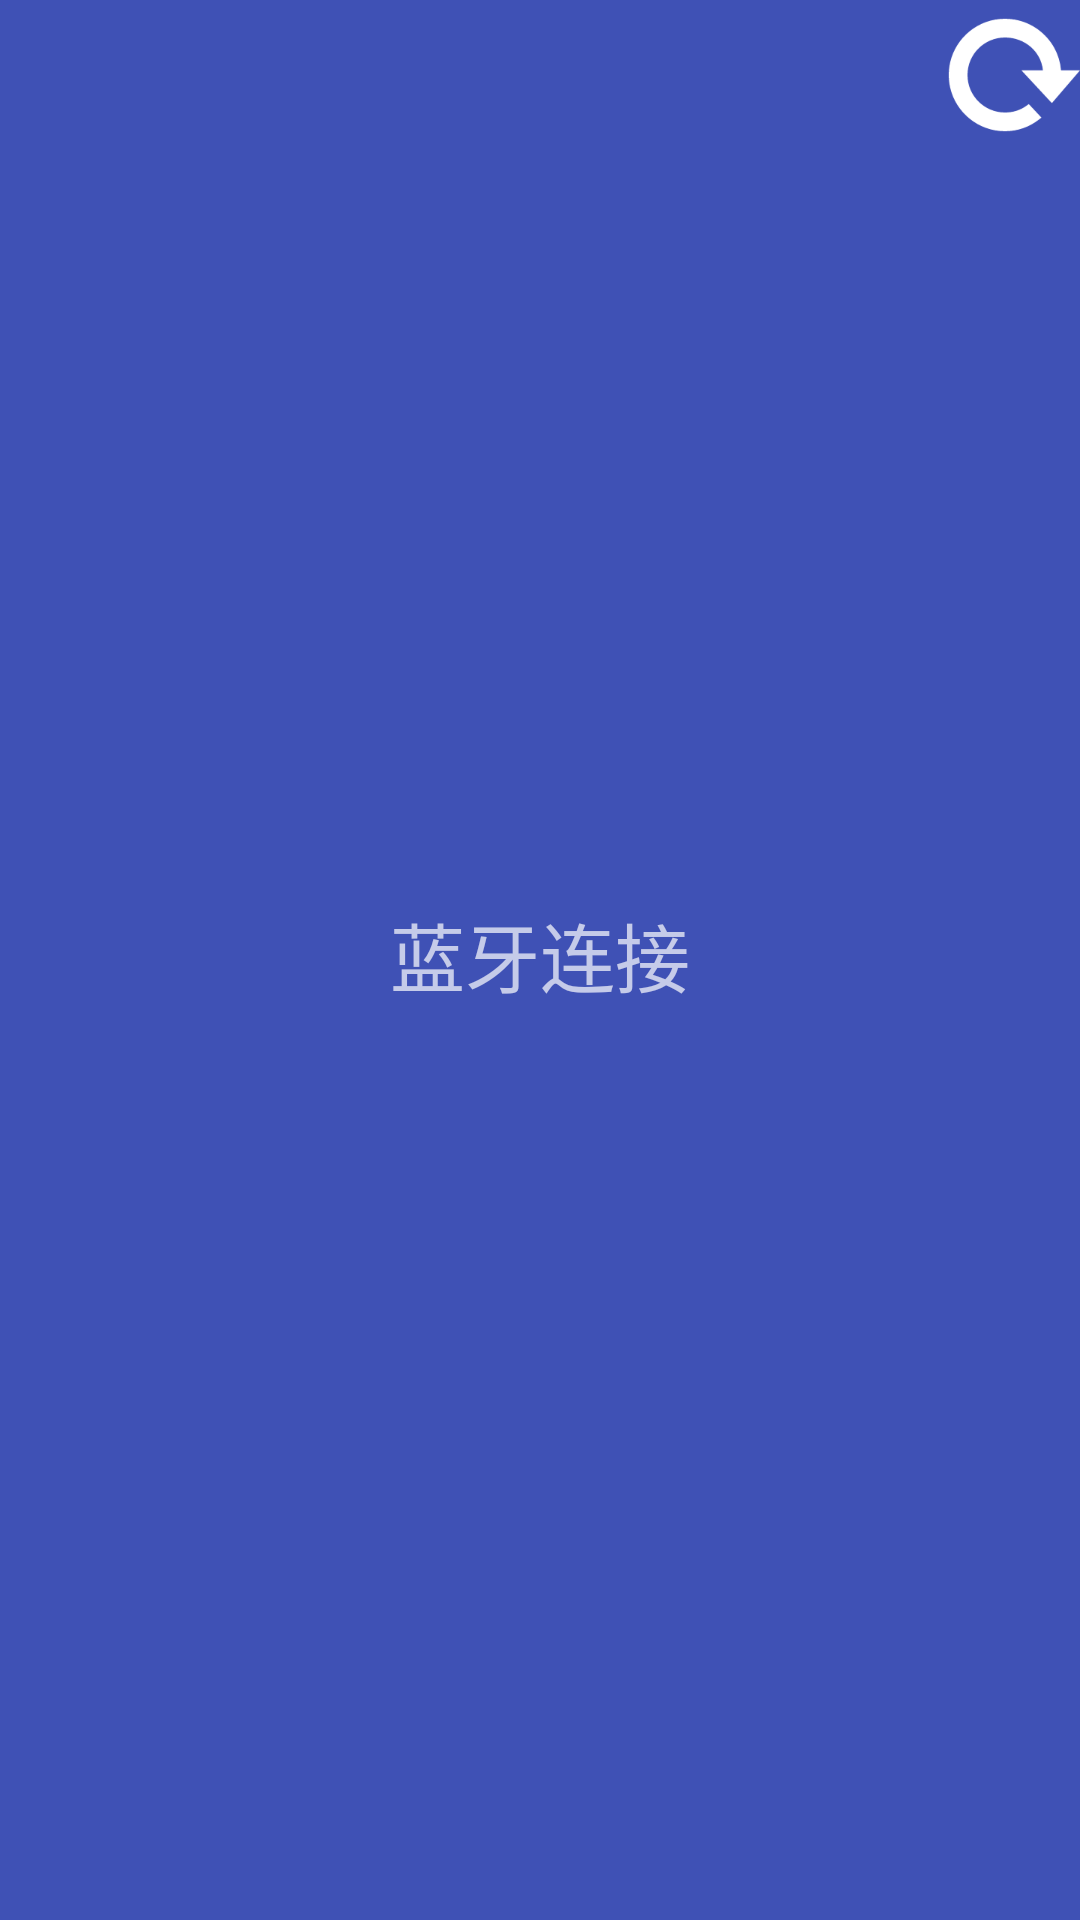

Named icons in this screenshot (1080px×1920px) and their centers, (x,y):
refresh: (1014,75)
